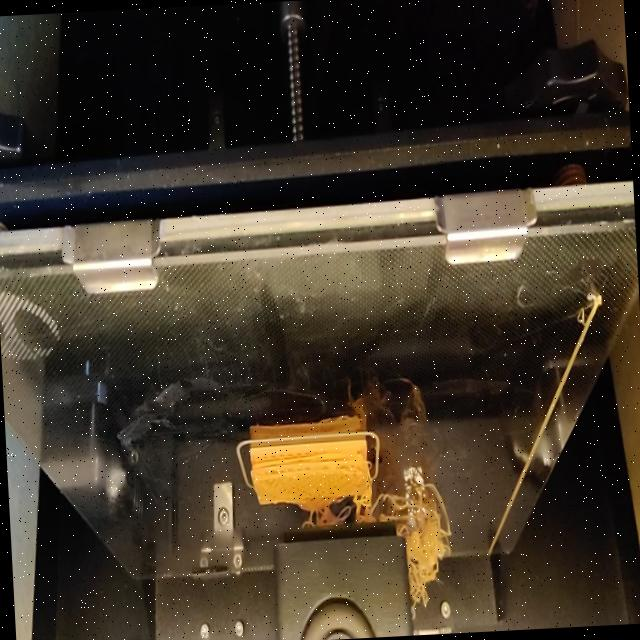spaghetti: (404, 477, 456, 617), (288, 483, 409, 542)
